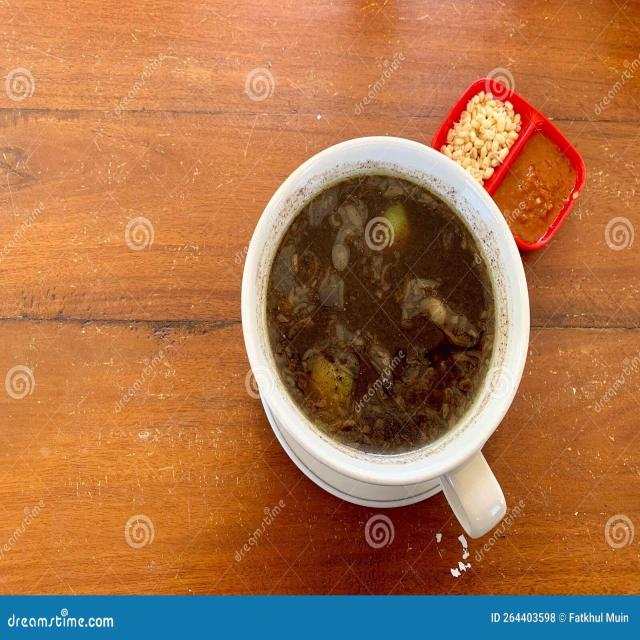Rawon: (288, 180, 488, 457)
